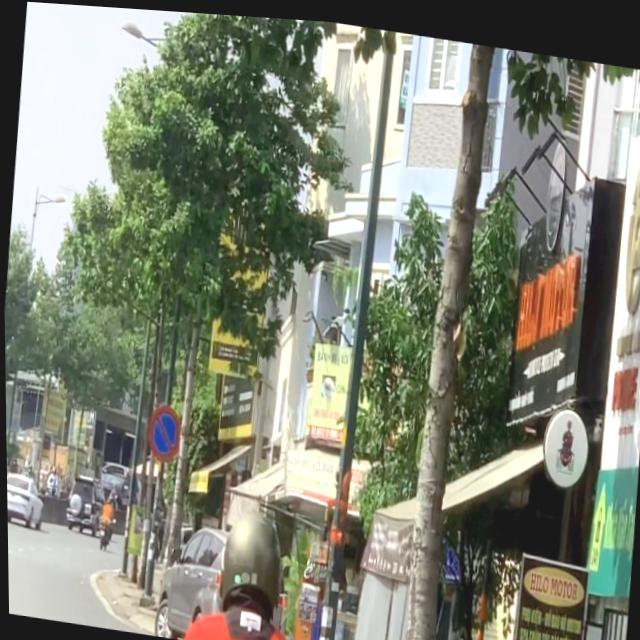Cam do xe: (144, 398, 181, 463)
